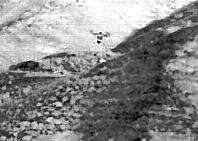Target: (89, 29, 110, 44)
